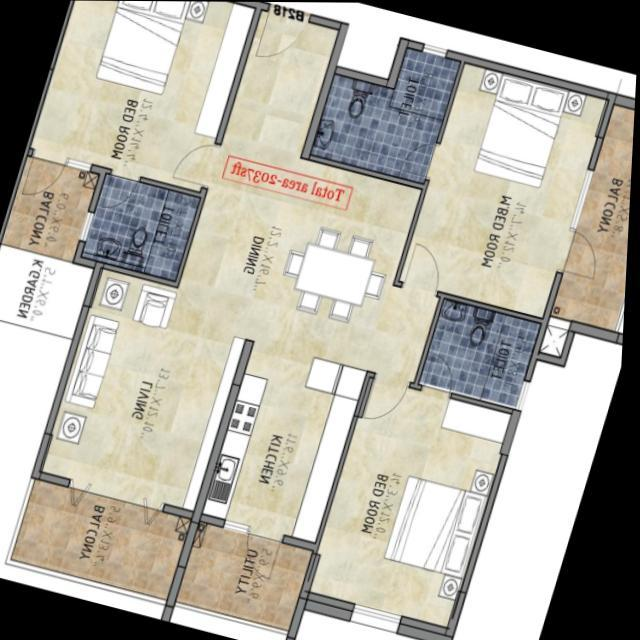Balcony-Sitout: (9, 471, 201, 607), (550, 91, 636, 339), (0, 148, 108, 265)
Bedroom: (302, 369, 527, 640), (25, 0, 265, 203)
Bedroom with Toilet: (305, 37, 614, 317)
Dining: (270, 213, 402, 333)
Kitchen: (196, 336, 379, 552)
Living: (35, 294, 256, 520)
Toilet: (304, 34, 461, 189), (415, 296, 551, 415), (77, 168, 206, 284)
Utility: (170, 512, 326, 638)
